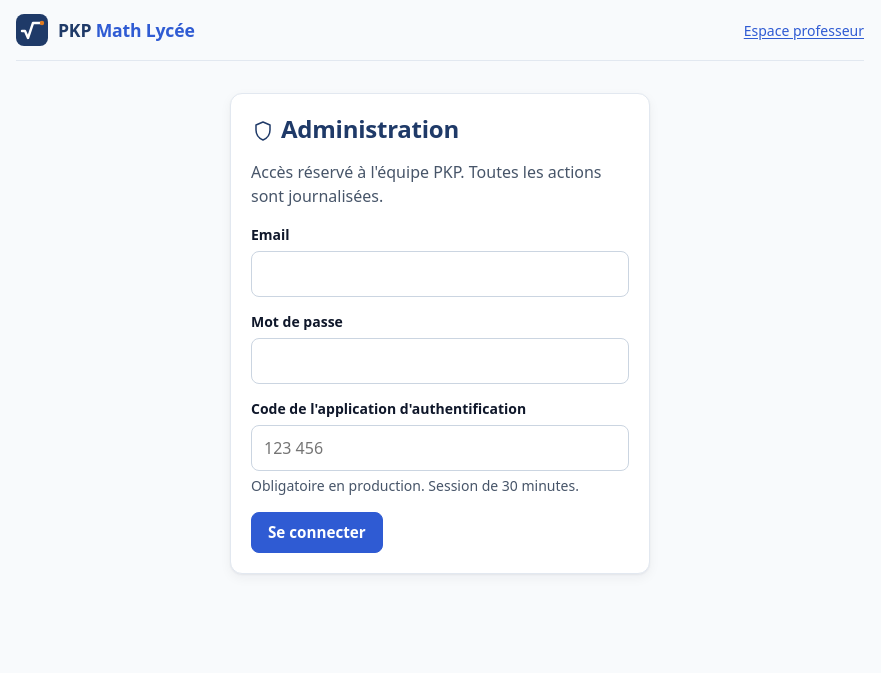
it: administration › demande le code du second facteur et affiche le refus du serveur
Type "admin@pkp.fr" into the field labelled "Email". click: coordinates (440, 274)
box: [251,251,629,297]
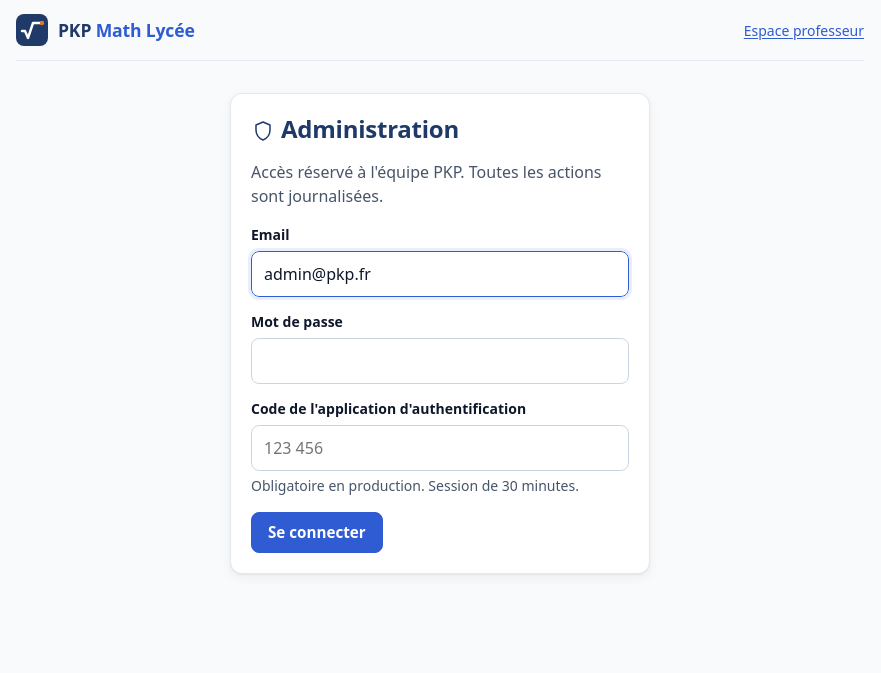
Type "secret-long-123" into the password field labelled "Mot de passe". click: coordinates (440, 361)
box: [251,338,629,384]
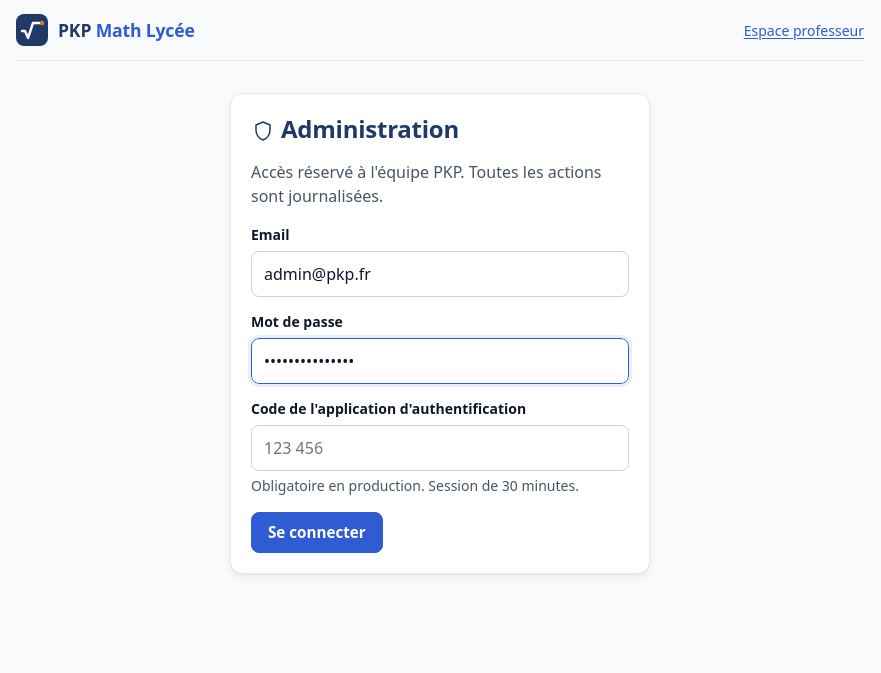
Type "123456" into the field labelled "Code de l'application d'authentification". click: coordinates (440, 448)
box: [251,425,629,471]
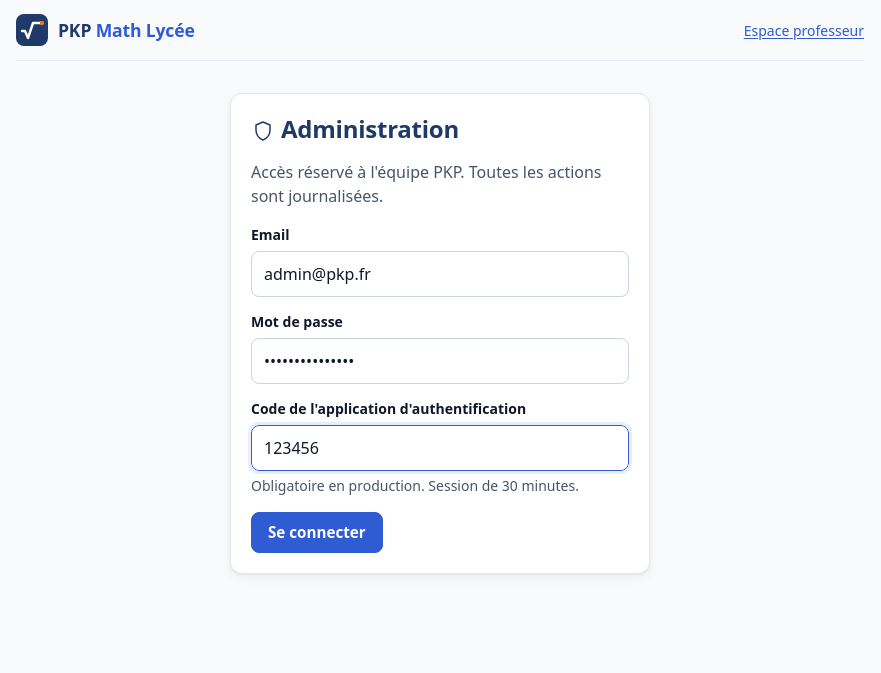
Click the button "Se connecter". click: coordinates (317, 533)
box: [251,512,383,553]
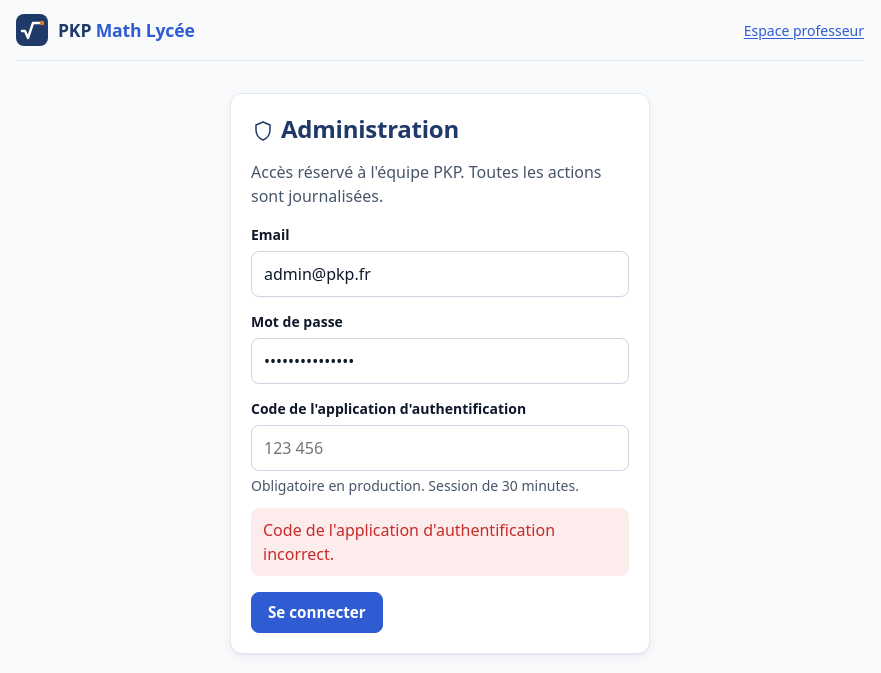
Check: the message shows "incorrect", box [263,519,555,565]
